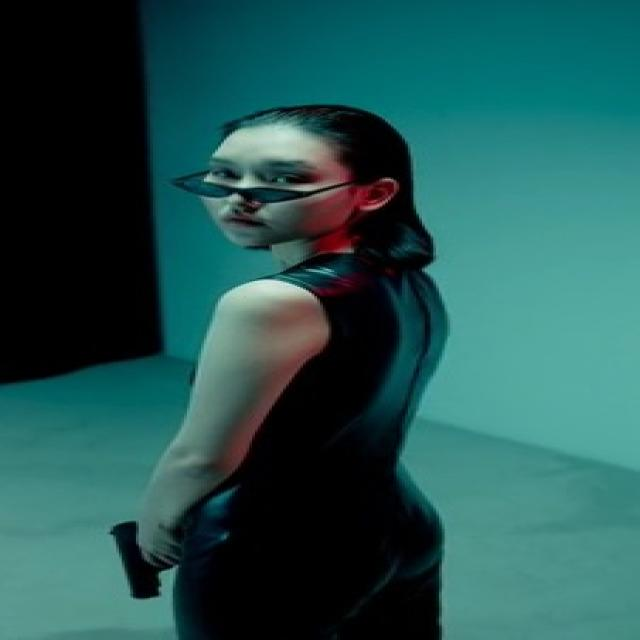Gun_Holder: (95, 504, 209, 605)
Person: (121, 99, 530, 640)
